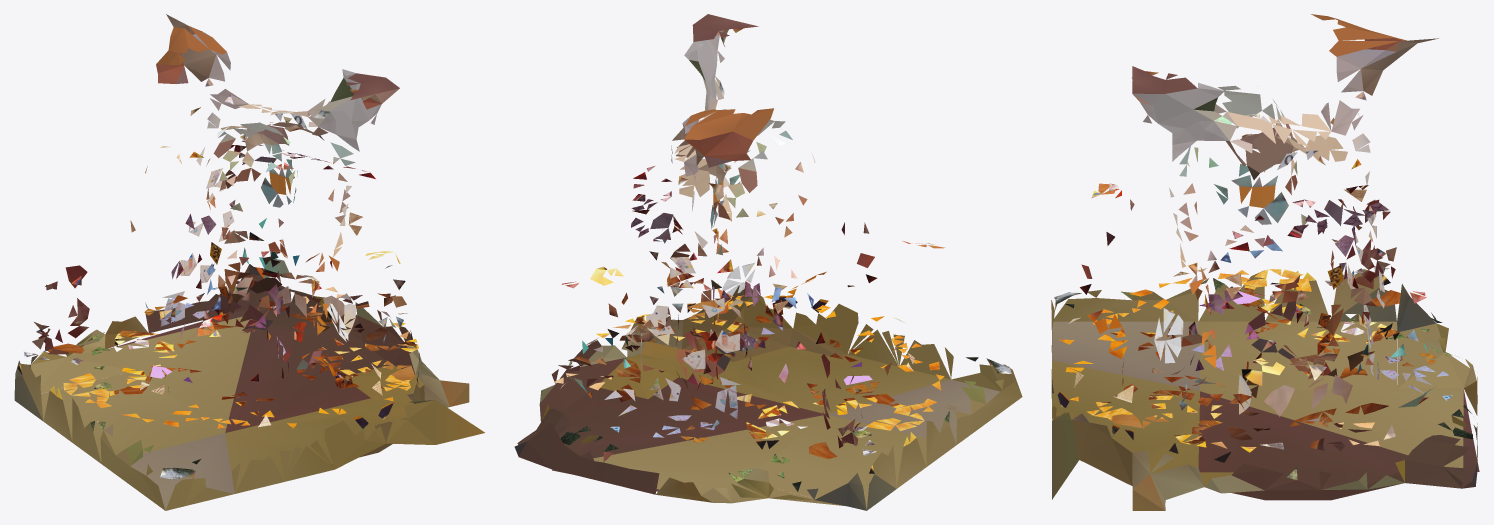
File: SALIDA_Segrelles_Blender_4.glb
3 renders of one model, left to right at view 1: azimuth 30°, elevation 25°; view 2: azimuth 150°, elevation 25°; view 3: azimuth 270°, elevation 25°, orthographic. The views are drawn at different scales.
Visible parts, largest first — view 1: Mesh_0.002; view 2: Mesh_0.002; view 3: Mesh_0.002.
Boxes of the visible parts, bbox=[...] form: Mesh_0.002: bbox=[14, 14, 484, 510]; Mesh_0.002: bbox=[514, 14, 1022, 510]; Mesh_0.002: bbox=[1051, 14, 1479, 510].
Bounding box in the file's own units: 2.94 × 2.74 × 2.81.
1 material, 1 textured.
